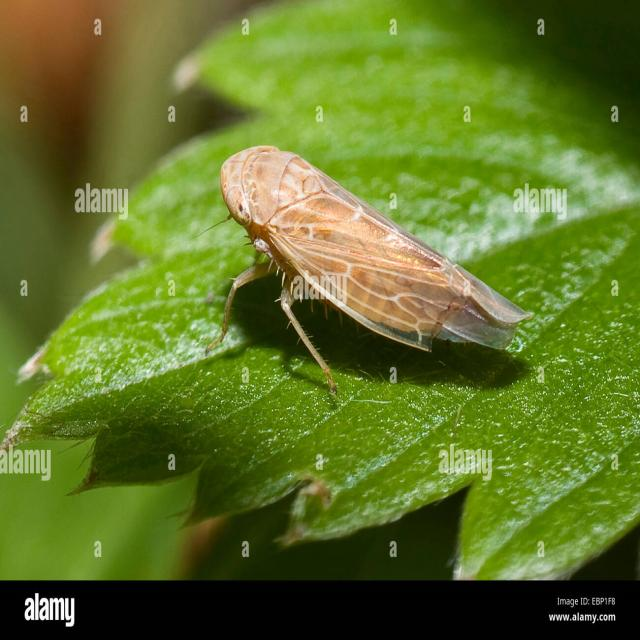Yechan: (194, 129, 519, 403)
